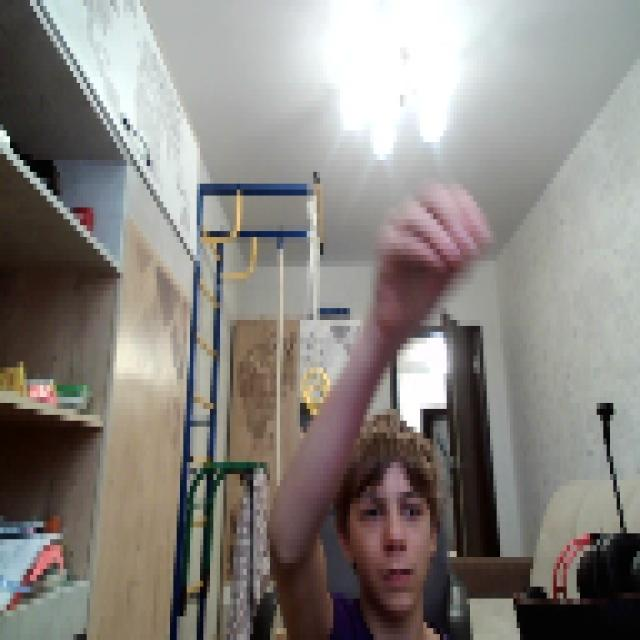left_click: (373, 178, 487, 326)
